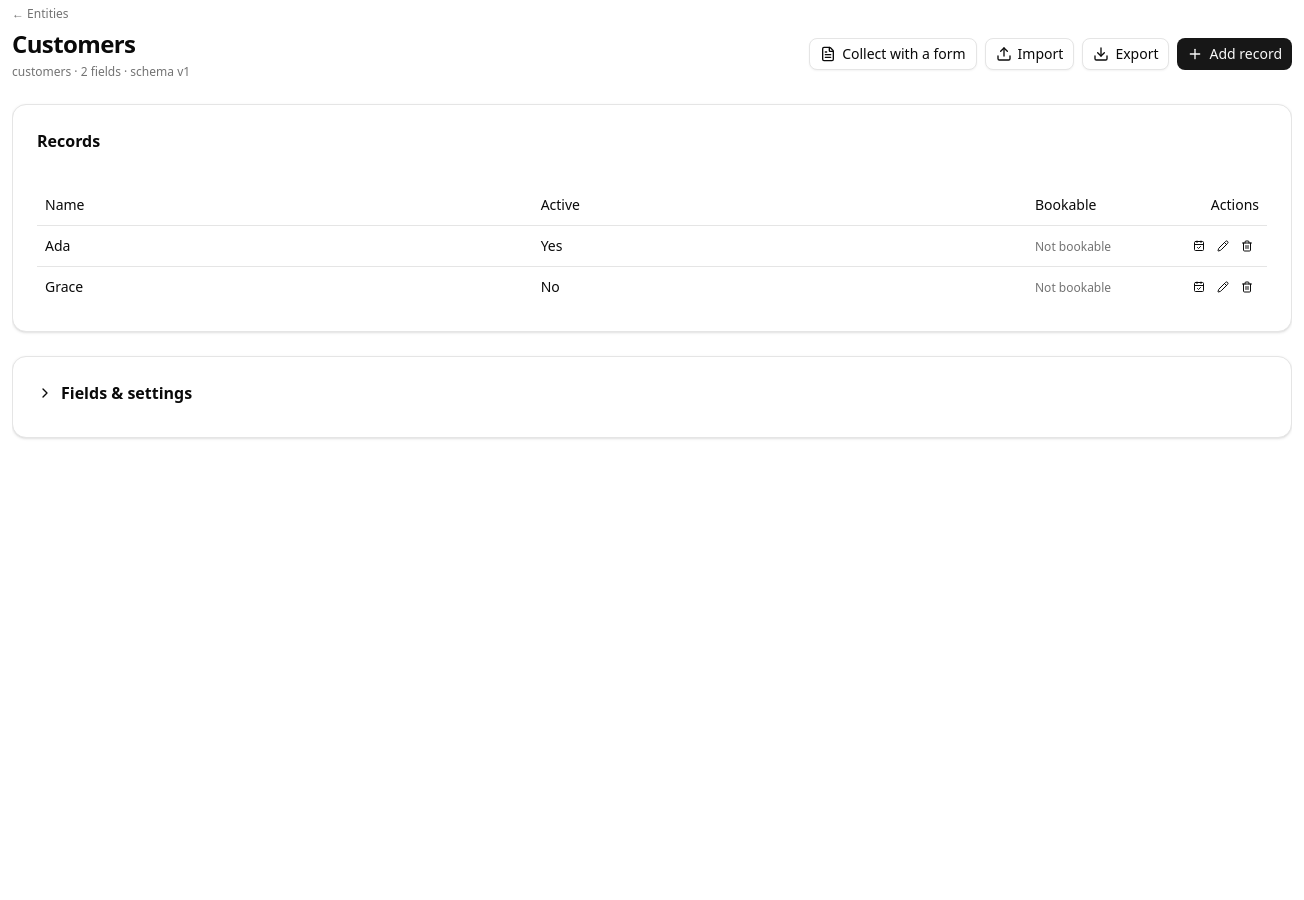
Test: EntityPage › warns before a save that would orphan stored data
expect the table is shown: met, box [37,185,1267,306]
Click the button "Fields & settings" at (127, 392), box [37,380,1267,404]
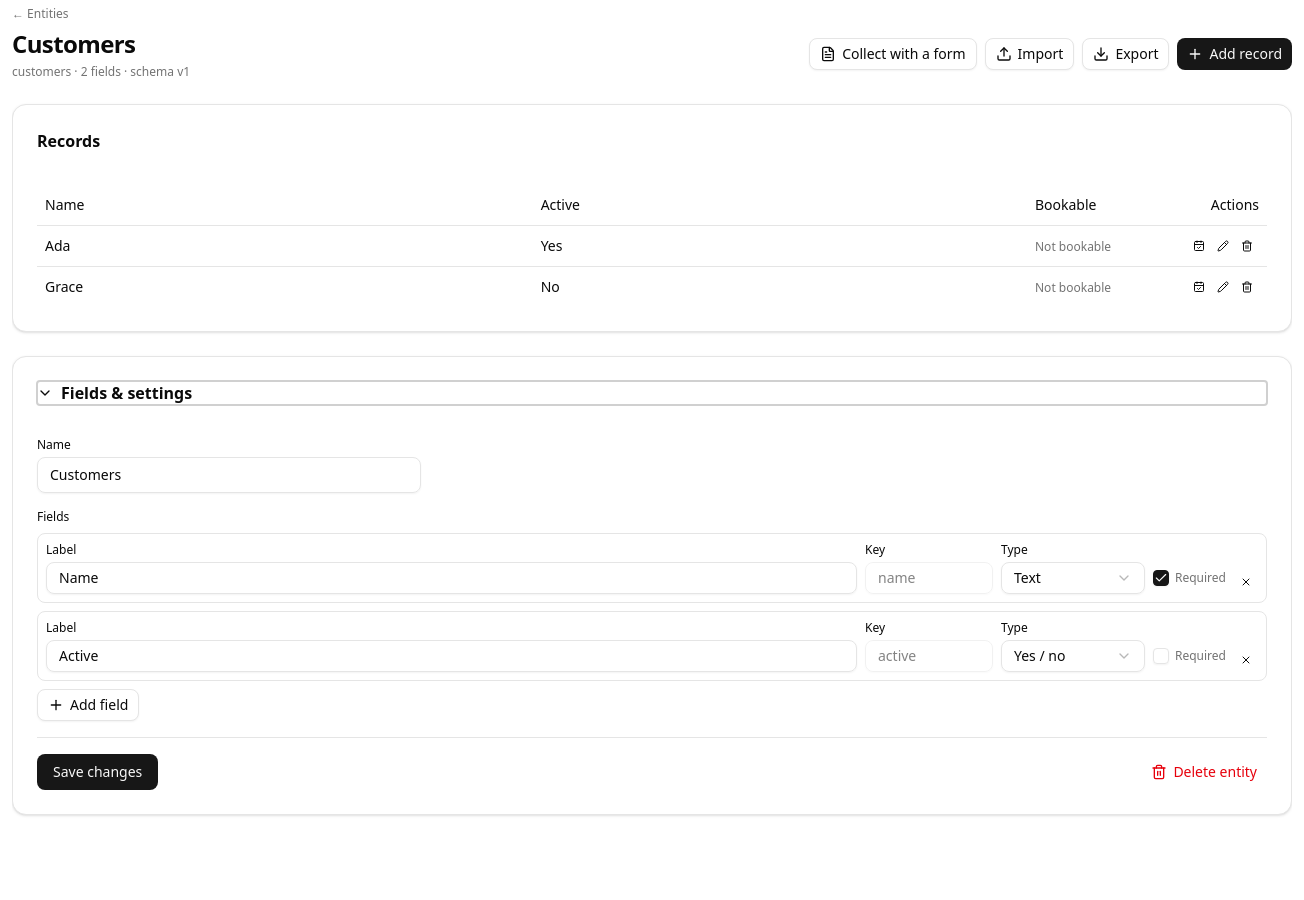
Click the button named "Remove Active" at (1246, 660), box [1234,648,1258,672]
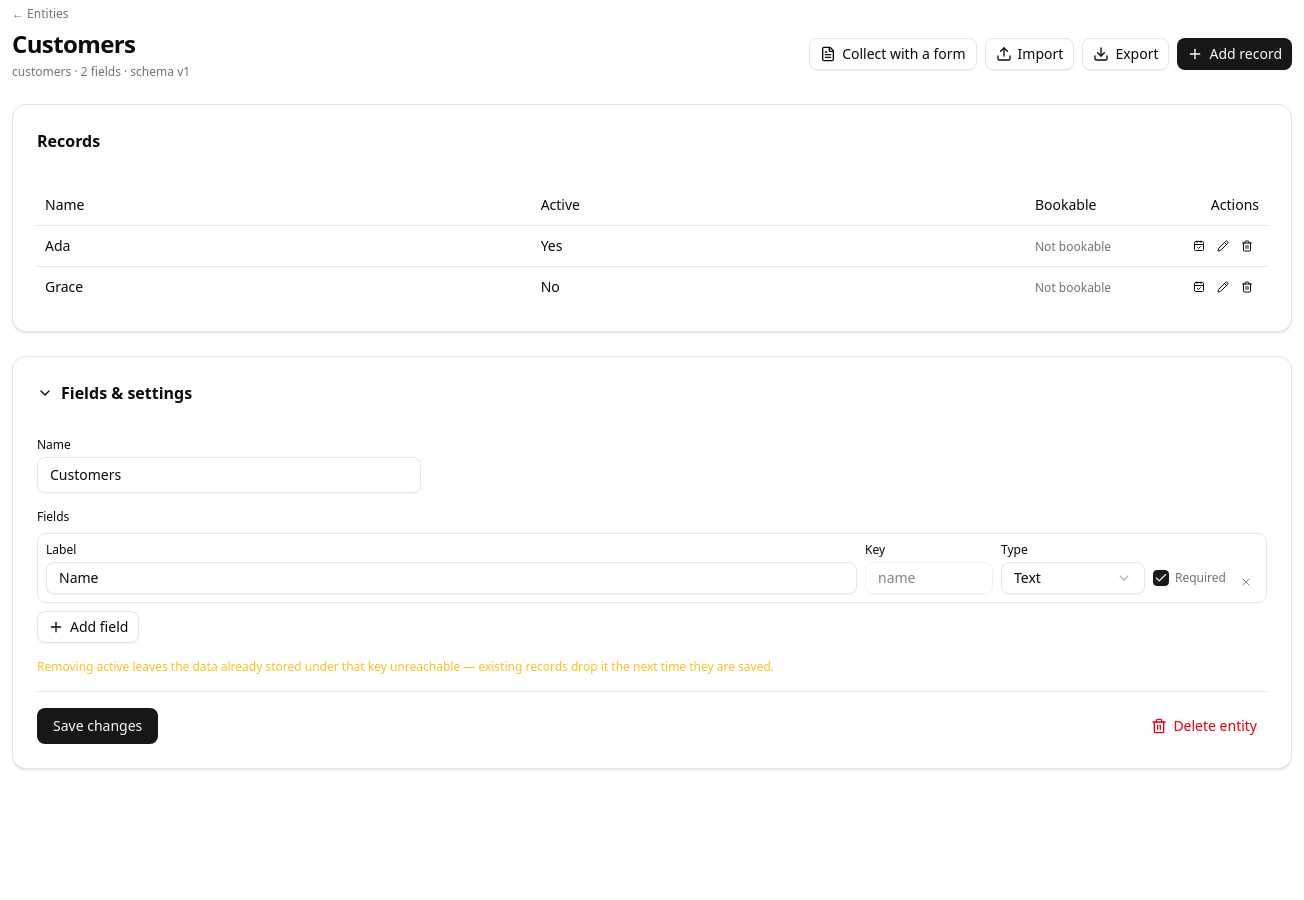
expect the text "Removing active leaves the data" is shown: met, box [37,658,774,674]
